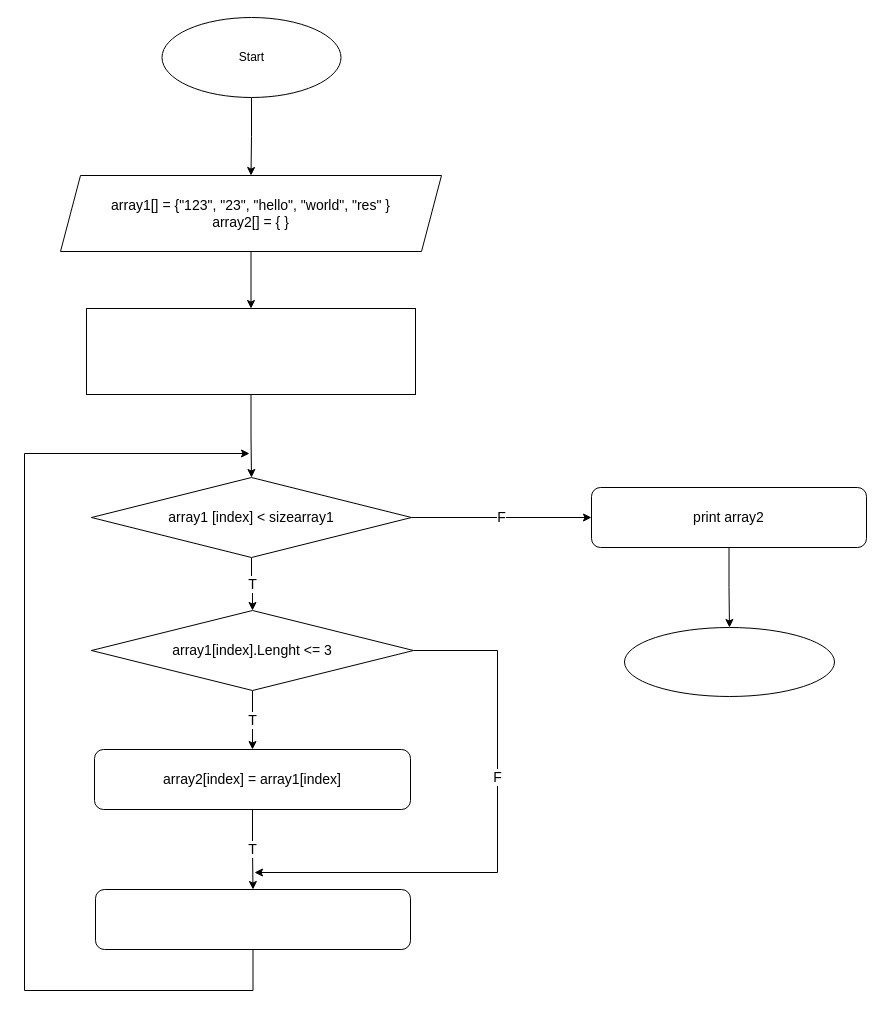
The diagram is 884 pixels wide and 1016 high, and some of its shapes have lost their labels. The shapes that lost their labels are listed below. From the top down, each one's centre as x and y in pixels, then its label:
the point at 251,351: array1 [index] = 0 array2 [index] = 0 sizearray1 = array.Lengh
the point at 729,661: end
the point at 252,919: array1[index] = array1[index] + 1
